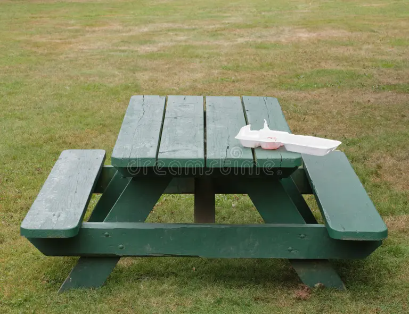obstacle: (21, 85, 388, 301)
